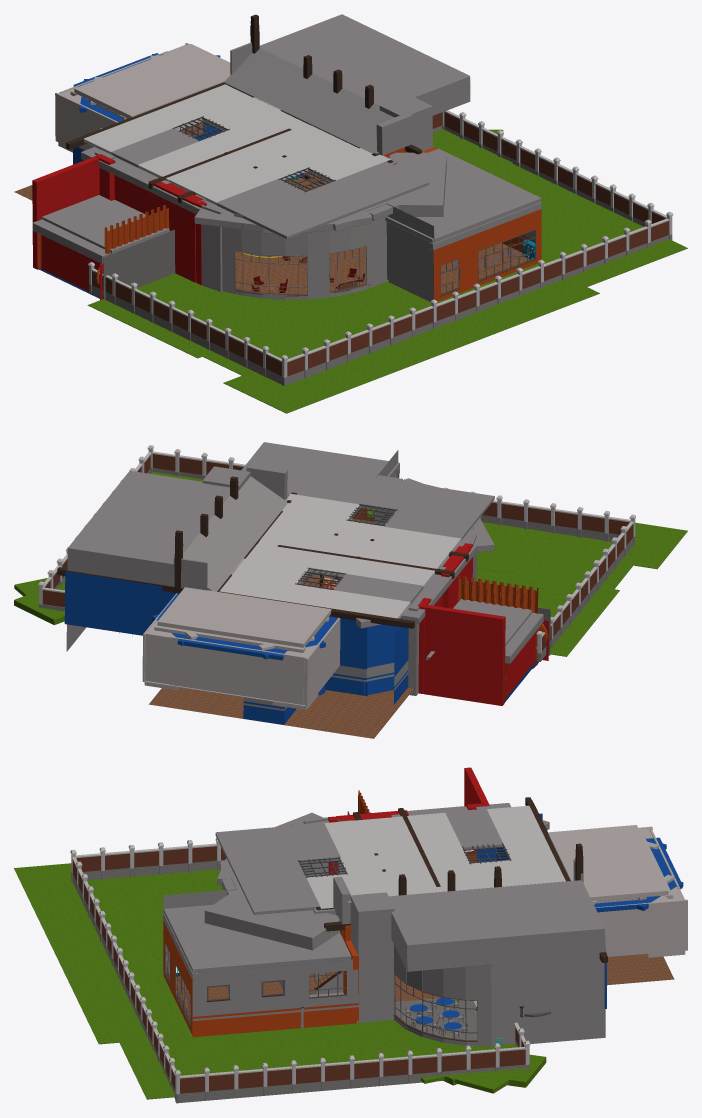
The model's file is reccenter.glb.
The picture shows the model from 3 angles, top to bottom: view 1: azimuth 30°, elevation 25°; view 2: azimuth 150°, elevation 25°; view 3: azimuth 270°, elevation 25°; orthographic projection. The views are drawn at different scales.
Parts seen in each view (by area): view 1: Shape_RR_Box_0d8a9292c5a24a29bcd62111b06e1c8a, Shape_RR_Box_3693169b7e474bf7bcf7f01d20dee6ed, Shape_RR_Box_1e09b918ebeb48e7b54778b5c4672a2e, Shape_RR_Box_21e5cf78495949a488a6e10bbdc81713, Shape_RR_Box_eac8d63bf3ca498890977e9f04374305, Shape_RR_Box_760ac38901c849a3a69de9a4f01411d6, Shape_RR_Box_7377a46f590b478aa0923fcf95f072f7, Shape_RR_Box_1d6a1c05fc624060b56f8f80fdd78b8e, Shape_RR_Box_84719fdb042a49f0b30b83ff0ec56a6d, Shape_RR_Box_d60d38558e844f10acc4d97a1a900218, Shape_RR_Box_82b820664bcb43338806e176081cd4e3, Shape_RR_Box_3c4b45627f86442c9f2bc2d588359505 (+38 smaller); view 2: Shape_RR_Box_3693169b7e474bf7bcf7f01d20dee6ed, Shape_RR_Box_b8f2341199b8430693dede3f58ea66d3, Shape_RR_Box_760ac38901c849a3a69de9a4f01411d6, Shape_RR_Box_5fb1257531ec4817b2103869149bec1b, Shape_RR_Box_eac8d63bf3ca498890977e9f04374305, Shape_RR_Box_3c4b45627f86442c9f2bc2d588359505, Shape_RR_Box_7377a46f590b478aa0923fcf95f072f7, Shape_RR_Box_1e09b918ebeb48e7b54778b5c4672a2e, Shape_RR_Box_01a415c1291e450687664e5d00008b3e, Shape_RR_Box_0d8a9292c5a24a29bcd62111b06e1c8a, Shape_RR_Box_9d8f0fb887b048699d9a881b2d328748, Shape_RR_Box_78af4f923ead47ed82f639c67e714104 (+37 smaller); view 3: Shape_RR_Box_3693169b7e474bf7bcf7f01d20dee6ed, Shape_RR_Box_0d8a9292c5a24a29bcd62111b06e1c8a, Shape_RR_Box_21e5cf78495949a488a6e10bbdc81713, Shape_RR_Box_8e84879763e84907b655b83e44b0d39b, Shape_RR_Box_760ac38901c849a3a69de9a4f01411d6, Shape_RR_Box_7377a46f590b478aa0923fcf95f072f7, Shape_RR_Box_eac8d63bf3ca498890977e9f04374305, Shape_RR_Box_4511bc0e33f847d599b99887bcce8252, Shape_RR_Box_9a91f53c68104a2385256c32b608e06a, Shape_RR_Box_1752a096473e4051830afcd35b5dcc90, Shape_RR_Box_82b820664bcb43338806e176081cd4e3, Shape_RR_Box_98834c0f684a4478b1ba758346fb1d35 (+36 smaller).
Boxes of the visible parts, <box> form: Shape_RR_Box_0d8a9292c5a24a29bcd62111b06e1c8a: <box>223,263,599,413</box>; Shape_RR_Box_3693169b7e474bf7bcf7f01d20dee6ed: <box>259,14,470,115</box>; Shape_RR_Box_1e09b918ebeb48e7b54778b5c4672a2e: <box>224,48,394,153</box>; Shape_RR_Box_21e5cf78495949a488a6e10bbdc81713: <box>496,163,687,286</box>; Shape_RR_Box_eac8d63bf3ca498890977e9f04374305: <box>169,125,358,205</box>; Shape_RR_Box_760ac38901c849a3a69de9a4f01411d6: <box>74,44,230,118</box>; Shape_RR_Box_7377a46f590b478aa0923fcf95f072f7: <box>244,161,428,239</box>; Shape_RR_Box_1d6a1c05fc624060b56f8f80fdd78b8e: <box>202,284,430,375</box>; Shape_RR_Box_84719fdb042a49f0b30b83ff0ec56a6d: <box>87,273,285,358</box>; Shape_RR_Box_d60d38558e844f10acc4d97a1a900218: <box>287,221,668,376</box>; Shape_RR_Box_82b820664bcb43338806e176081cd4e3: <box>385,175,541,243</box>; Shape_RR_Box_3c4b45627f86442c9f2bc2d588359505: <box>14,178,365,294</box>; Shape_RR_Box_3693169b7e474bf7bcf7f01d20dee6ed: <box>67,471,229,586</box>; Shape_RR_Box_b8f2341199b8430693dede3f58ea66d3: <box>423,605,505,705</box>; Shape_RR_Box_760ac38901c849a3a69de9a4f01411d6: <box>157,587,331,647</box>; Shape_RR_Box_5fb1257531ec4817b2103869149bec1b: <box>169,636,304,704</box>; Shape_RR_Box_eac8d63bf3ca498890977e9f04374305: <box>260,511,461,568</box>; Shape_RR_Box_3c4b45627f86442c9f2bc2d588359505: <box>149,574,413,738</box>; Shape_RR_Box_7377a46f590b478aa0923fcf95f072f7: <box>297,469,494,523</box>; Shape_RR_Box_1e09b918ebeb48e7b54778b5c4672a2e: <box>183,476,287,591</box>; Shape_RR_Box_01a415c1291e450687664e5d00008b3e: <box>64,571,174,635</box>; Shape_RR_Box_0d8a9292c5a24a29bcd62111b06e1c8a: <box>367,509,687,569</box>; Shape_RR_Box_9d8f0fb887b048699d9a881b2d328748: <box>246,540,438,588</box>; Shape_RR_Box_78af4f923ead47ed82f639c67e714104: <box>219,575,410,618</box>; Shape_RR_Box_3693169b7e474bf7bcf7f01d20dee6ed: <box>389,880,605,971</box>; Shape_RR_Box_0d8a9292c5a24a29bcd62111b06e1c8a: <box>14,863,192,1044</box>; Shape_RR_Box_21e5cf78495949a488a6e10bbdc81713: <box>119,1021,378,1099</box>; Shape_RR_Box_8e84879763e84907b655b83e44b0d39b: <box>491,955,605,1045</box>; Shape_RR_Box_760ac38901c849a3a69de9a4f01411d6: <box>548,825,668,901</box>; Shape_RR_Box_7377a46f590b478aa0923fcf95f072f7: <box>215,826,319,914</box>; Shape_RR_Box_eac8d63bf3ca498890977e9f04374305: <box>324,817,434,896</box>; Shape_RR_Box_4511bc0e33f847d599b99887bcce8252: <box>350,892,394,1022</box>; Shape_RR_Box_9a91f53c68104a2385256c32b608e06a: <box>180,1049,525,1093</box>; Shape_RR_Box_1752a096473e4051830afcd35b5dcc90: <box>595,899,687,956</box>; Shape_RR_Box_82b820664bcb43338806e176081cd4e3: <box>163,904,265,973</box>; Shape_RR_Box_98834c0f684a4478b1ba758346fb1d35: <box>204,894,339,950</box>.
Bounding box in the file's own units: 66.23 × 19.56 × 73.83.
Materials: 48 (48 with a texture image).
